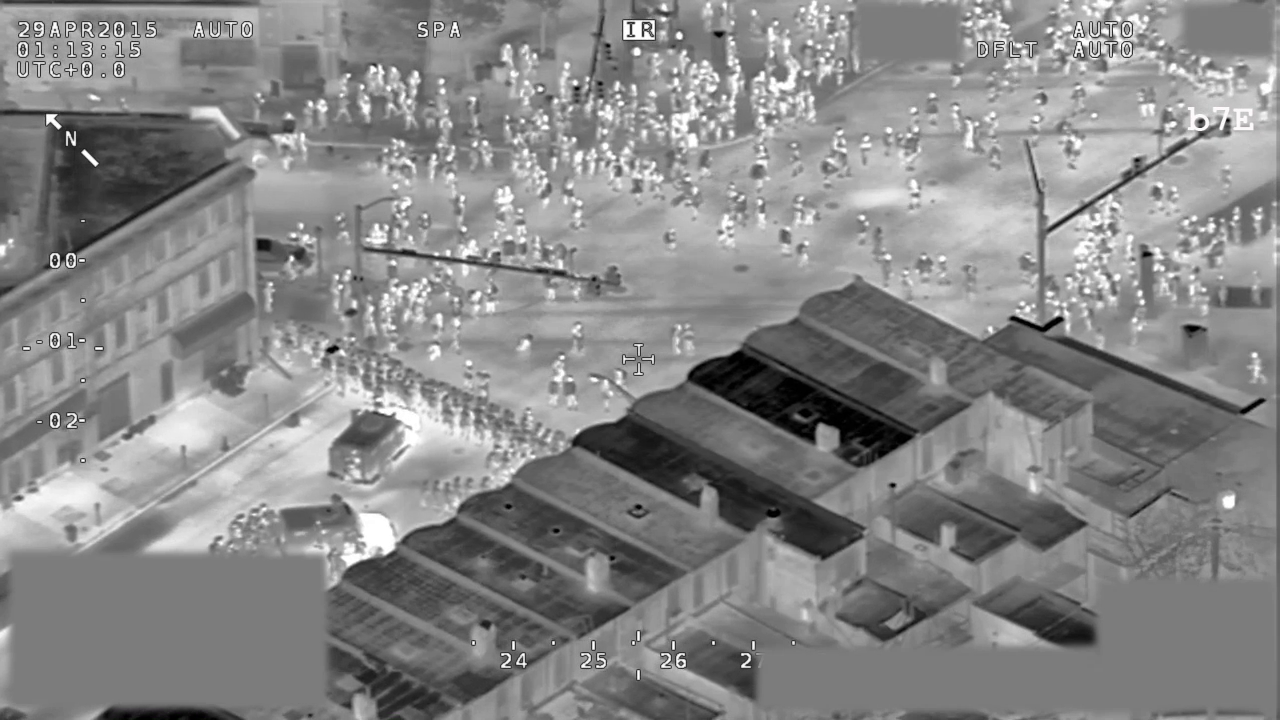vehicle: (328, 398, 424, 488), (273, 497, 399, 554), (254, 231, 314, 280)
